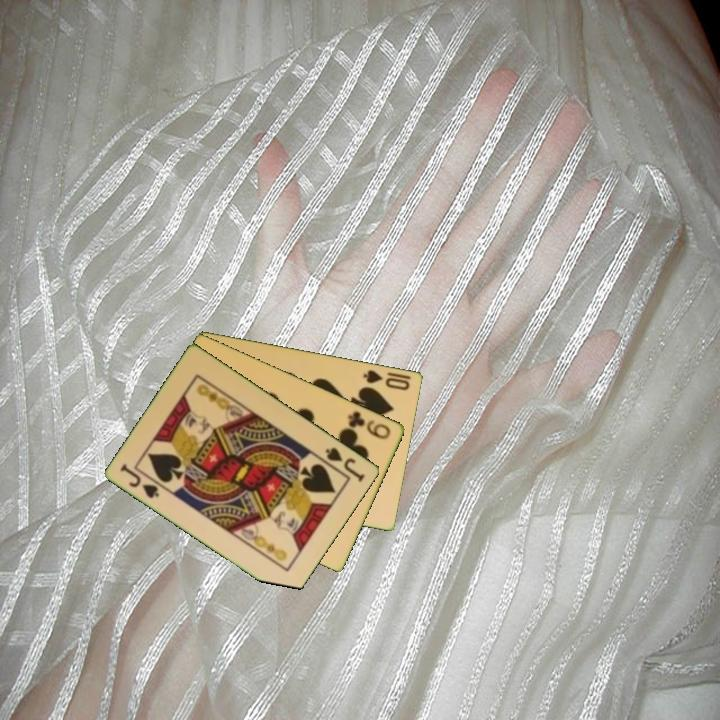10s: (360, 366, 413, 393)
9c: (345, 407, 394, 442)
Js: (322, 443, 368, 485), (117, 460, 163, 501)
